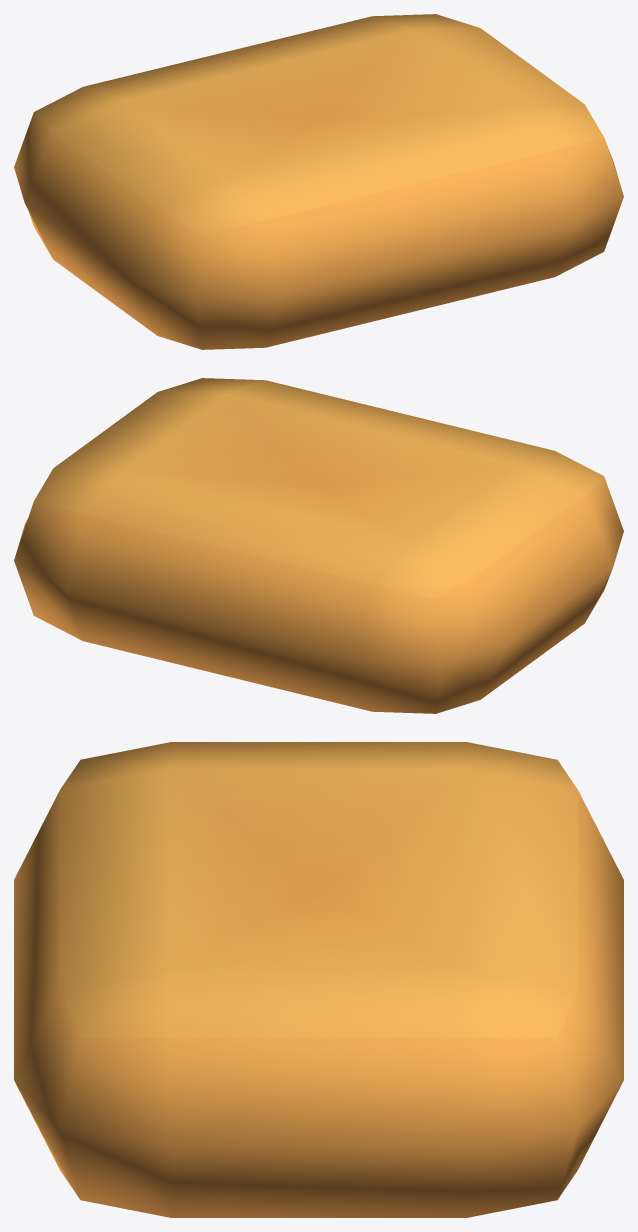
The model's file is kk_pillow.glb.
The picture shows the model from 3 angles, top to bottom: view 1: azimuth 30°, elevation 25°; view 2: azimuth 150°, elevation 25°; view 3: azimuth 270°, elevation 25°; orthographic projection. The views are drawn at different scales.
Parts seen in each view (by area): view 1: pillow_A; view 2: pillow_A; view 3: pillow_A.
Part boxes in pixels (x1,y1,x2,y2): pillow_A: (14,14,623,349); pillow_A: (14,378,623,713); pillow_A: (14,742,623,1217).
Bounding box in the file's own units: 0.975 × 0.3 × 0.75.
1 material, 1 textured.
